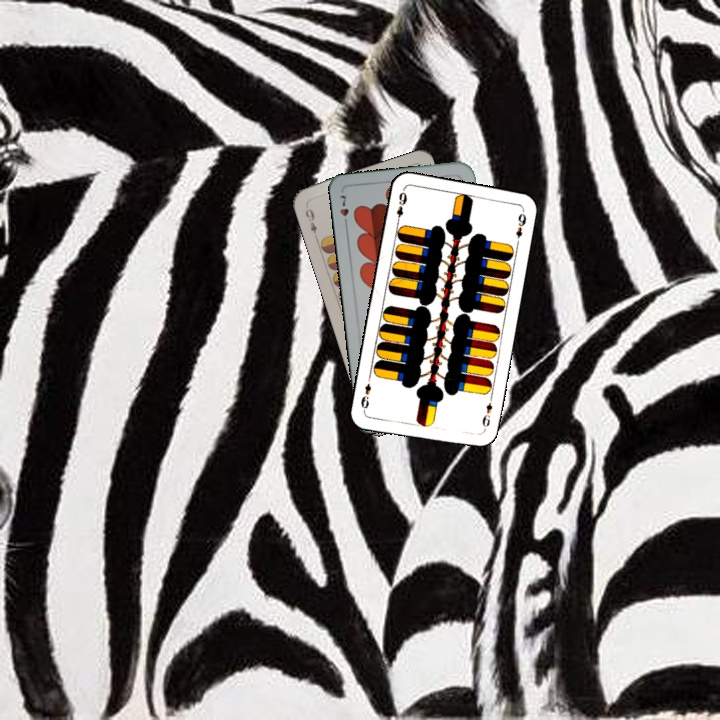E9: (301, 201, 320, 241), (392, 186, 410, 227), (478, 393, 495, 434)
H7: (336, 191, 351, 230)
